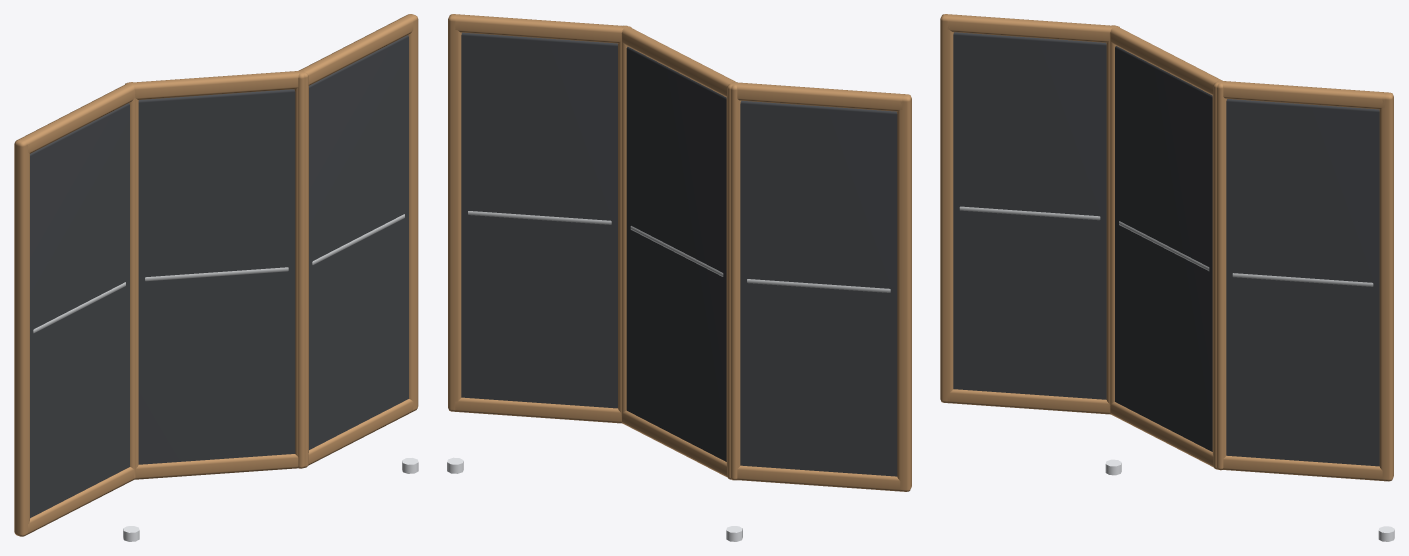
File: screen_changing_folding.glb
The picture shows the model from 3 angles, left to right: view 1: azimuth 30°, elevation 25°; view 2: azimuth 150°, elevation 25°; view 3: azimuth 330°, elevation 25°; orthographic projection. The views are drawn at different scales.
Parts seen in each view (by area): view 1: screen_changing_folding; view 2: screen_changing_folding; view 3: screen_changing_folding.
Boxes of the visible parts, x1=… form: screen_changing_folding: x1=14, y1=14, x2=418, y2=541; screen_changing_folding: x1=447, y1=14, x2=911, y2=541; screen_changing_folding: x1=940, y1=14, x2=1394, y2=541.
Size of the model in its own units: 1.74 by 1.75 by 0.2663.
